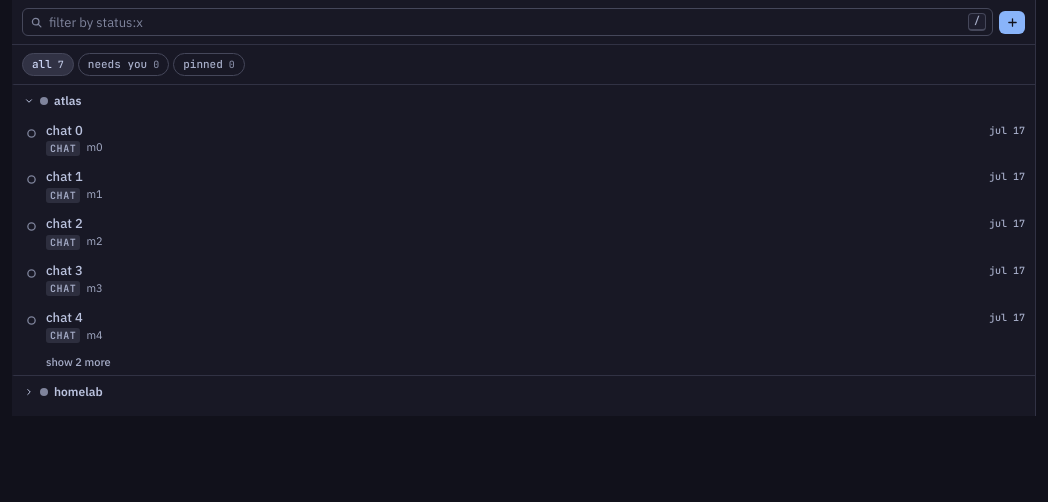
Scenario: an agent shows five sessions until "show more" expands it
The image size is (1048, 502).
Expected: the button "chat 0 jul 17 chat m0" is shown, [12,117,1035,163]
Expected: the number of buttons with class "t-srow" is 5, [12,117,1035,163]; [12,163,1035,210]; [12,210,1035,257]; [12,257,1035,304]; [12,304,1035,351]
Click the button "show 2 more" at [78, 362], box [12,351,1035,375]
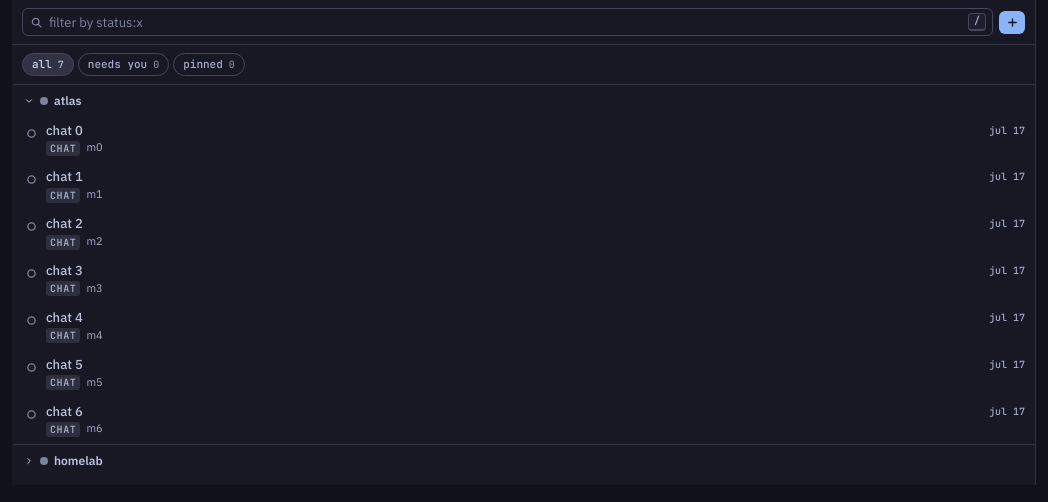
Result: the button "chat 6 jul 17 chat m6" is shown at [12,398,1035,444]
Result: the number of buttons with class "t-srow" is 7
